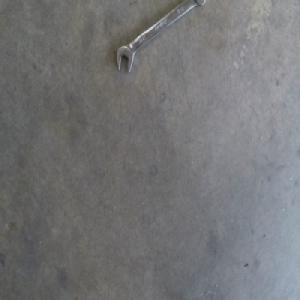Wrench: (116, 0, 201, 73)
